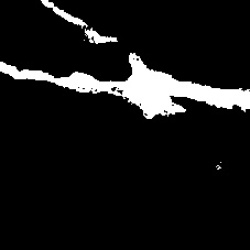crack: (1, 53, 249, 117), (39, 1, 119, 45)
